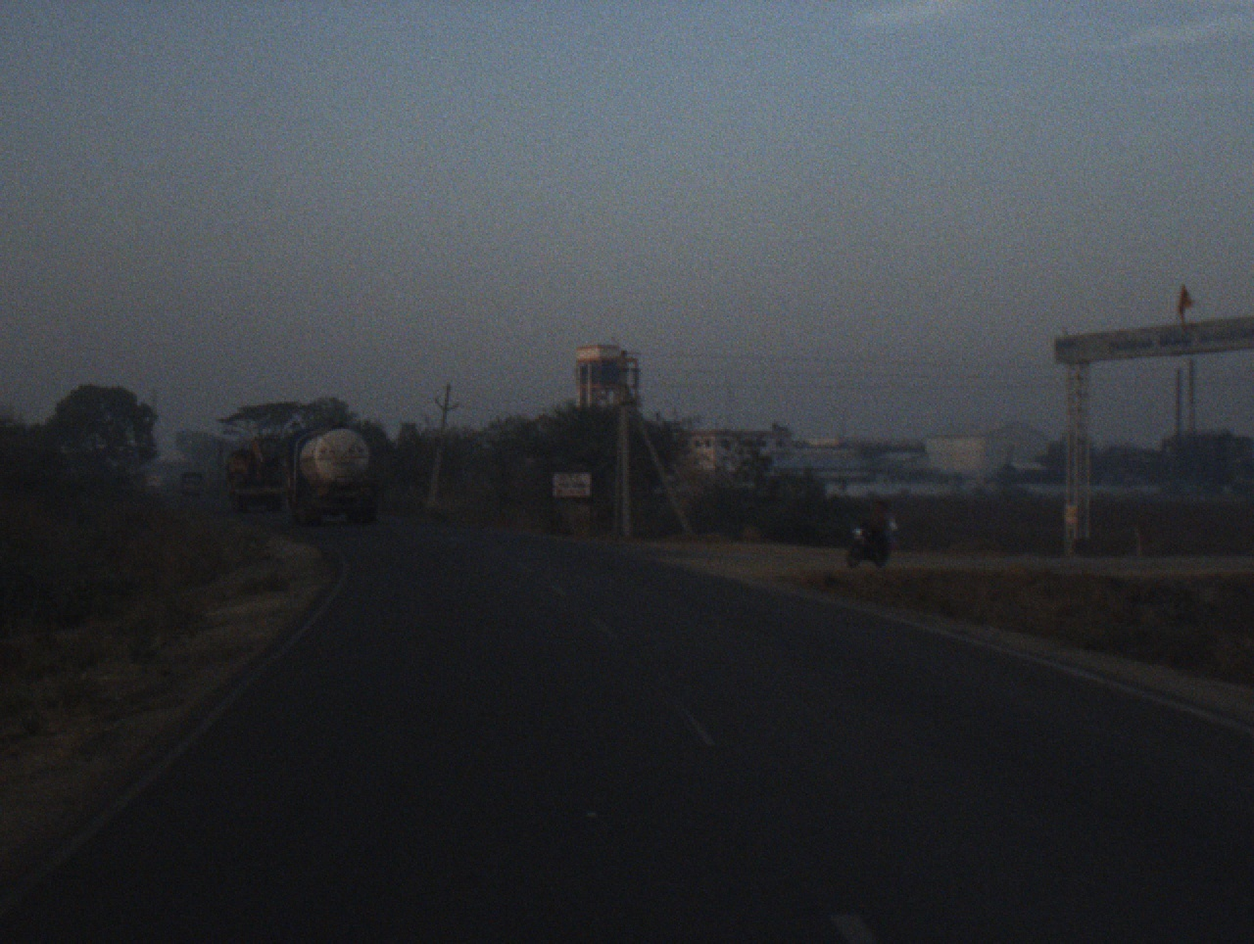motorcycle: (841, 511, 894, 567)
rider: (866, 508, 891, 565)
truck: (295, 427, 388, 529), (179, 465, 208, 502)
vehicle fallback: (221, 431, 290, 508)
